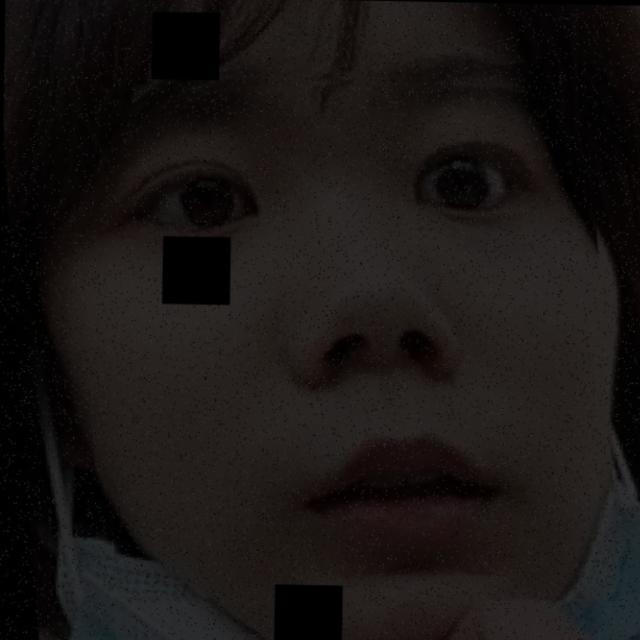Surprised: (56, 63, 640, 564)
